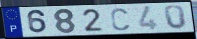0: (163, 4, 188, 31)
2: (82, 8, 106, 32)
4: (138, 4, 160, 32)
6: (27, 9, 49, 35)
8: (53, 8, 78, 34)
C: (109, 7, 130, 32)
